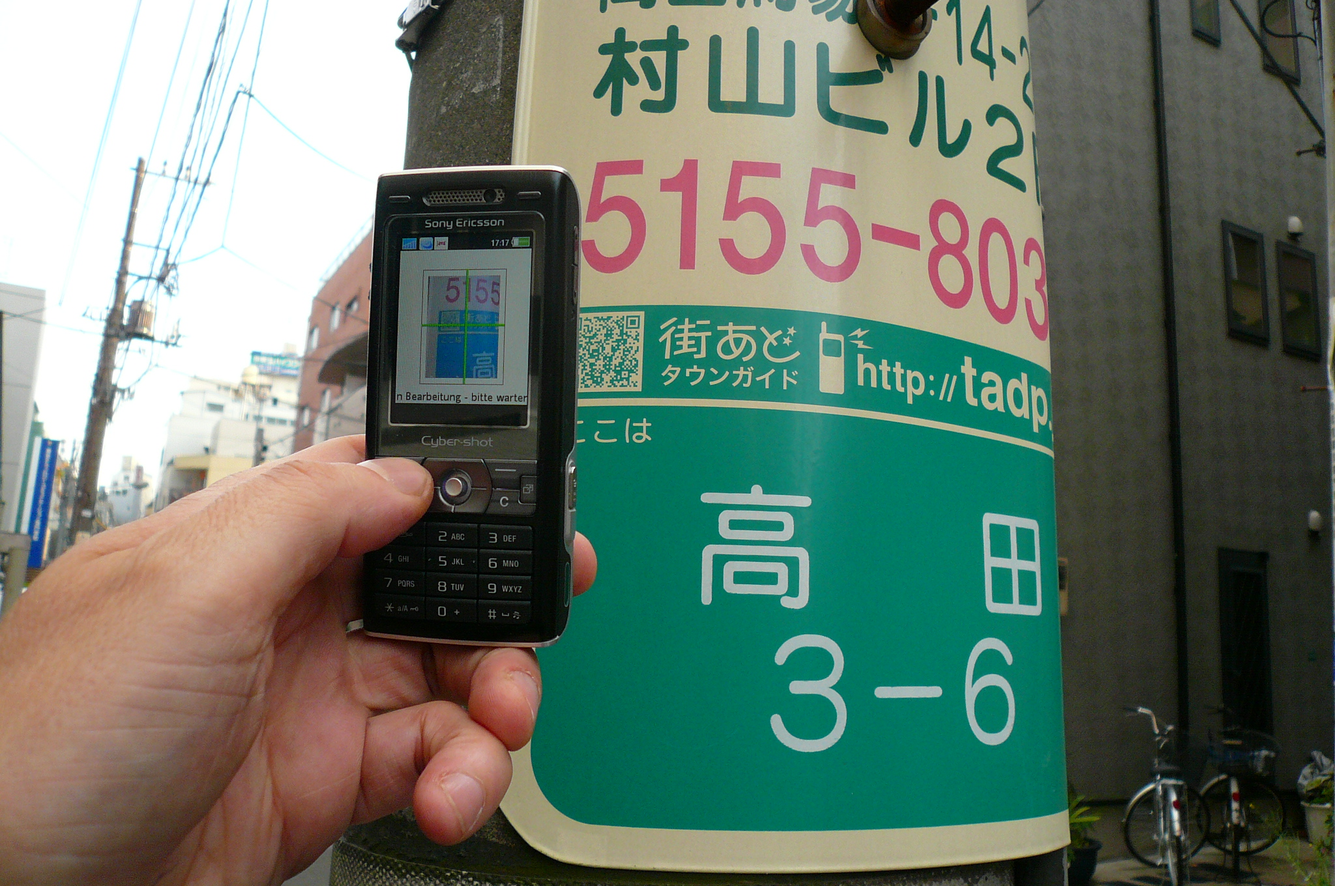QR-CODE: (578, 315, 639, 388)
